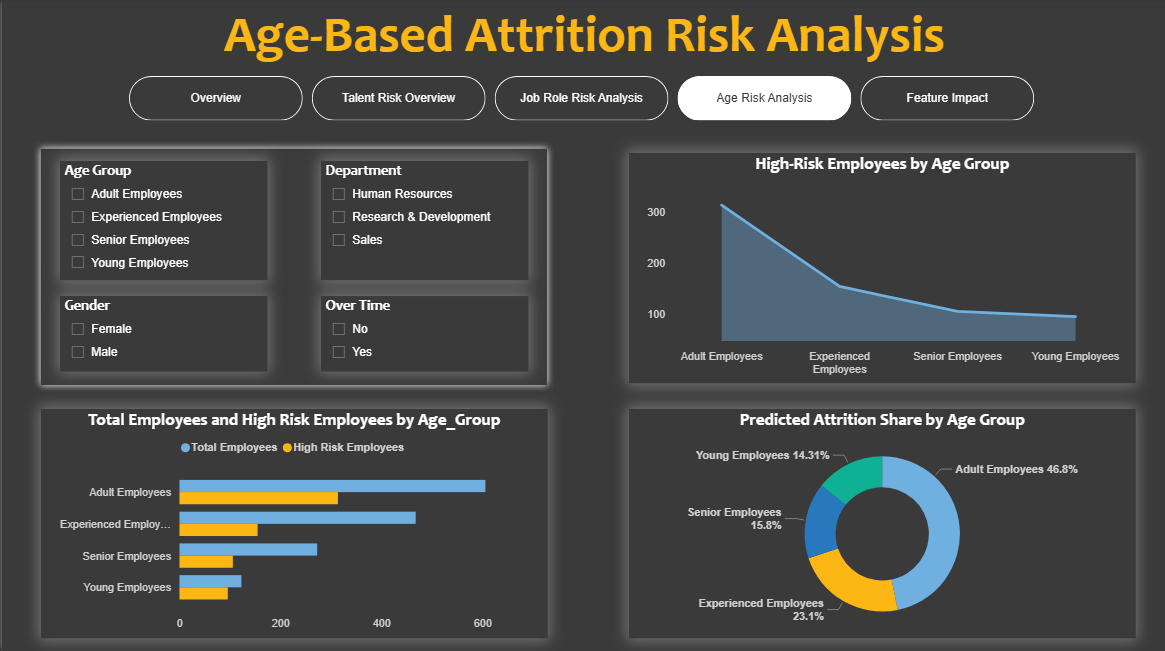

What the dashboard file says about the page in this screenshot:
{"tool":"powerbi","page":{"name":"Age Risk Analysis","canvas":[1280,720],"ordinal":3},"visuals":[{"type":"stackedAreaChart","title":"High-Risk Employees by Age Group","fields":{"Category":["ibm_hr_dataset.Age_Group"],"Y":["Measure_Table.High Risk Employees"]},"box":[689.7,169.9,556.7,252.6],"z":0},{"type":"donutChart","title":"Predicted Attrition Share by Age Group","fields":{"Category":["ibm_hr_dataset.Age_Group"],"Y":["Sum(ibm_hr_dataset.Predicted_Attrition)"]},"box":[689.7,451.6,556.7,251.5],"z":1000},{"type":"clusteredBarChart","fields":{"Category":["ibm_hr_dataset.Age_Group"],"Y":["Measure_Table.Total Employees","Measure_Table.High Risk Employees"]},"box":[42.5,451.6,556.7,251.5],"z":2000},{"type":"pageNavigator","box":[139.6,85.7,999.2,49.5],"z":3000},{"type":"textbox","box":[0,0,1280,85.5],"z":4000},{"type":"shape","box":[33.5,157.6,573.5,276.1],"z":5000},{"type":"slicer","title":"Age Group","fields":{"Values":["ibm_hr_dataset.Age_Group"]},"box":[63.7,178.9,228.1,130.8],"z":6000},{"type":"slicer","title":"Gender","fields":{"Values":["ibm_hr_dataset.Gender"]},"box":[63.7,327.5,228.1,82.7],"z":7000},{"type":"slicer","title":"Over Time","fields":{"Values":["ibm_hr_dataset.OverTime"]},"box":[351,327.5,228.1,82.7],"z":8000},{"type":"slicer","title":"Department","fields":{"Values":["ibm_hr_dataset.Department"]},"box":[351,178.9,228.1,130.8],"z":9000}]}

Visuals, with their boxes in screenshot pixels (x1, y1, x2, y2), scaled from the page's 1280x720 canvas onto the 1165x651 screenshot:
"High-Risk Employees by Age Group" stackedAreaChart: 628/154/1134/382
"Predicted Attrition Share by Age Group" donutChart: 628/408/1134/636
clusteredBarChart - ibm_hr_dataset.Age_Group x Measure_Table.Total Employees: 39/408/545/636
pageNavigator: 127/77/1036/122
textbox: 0/0/1164/77
shape: 30/142/552/392
"Age Group" slicer: 58/162/266/280
"Gender" slicer: 58/296/266/371
"Over Time" slicer: 319/296/527/371
"Department" slicer: 319/162/527/280
